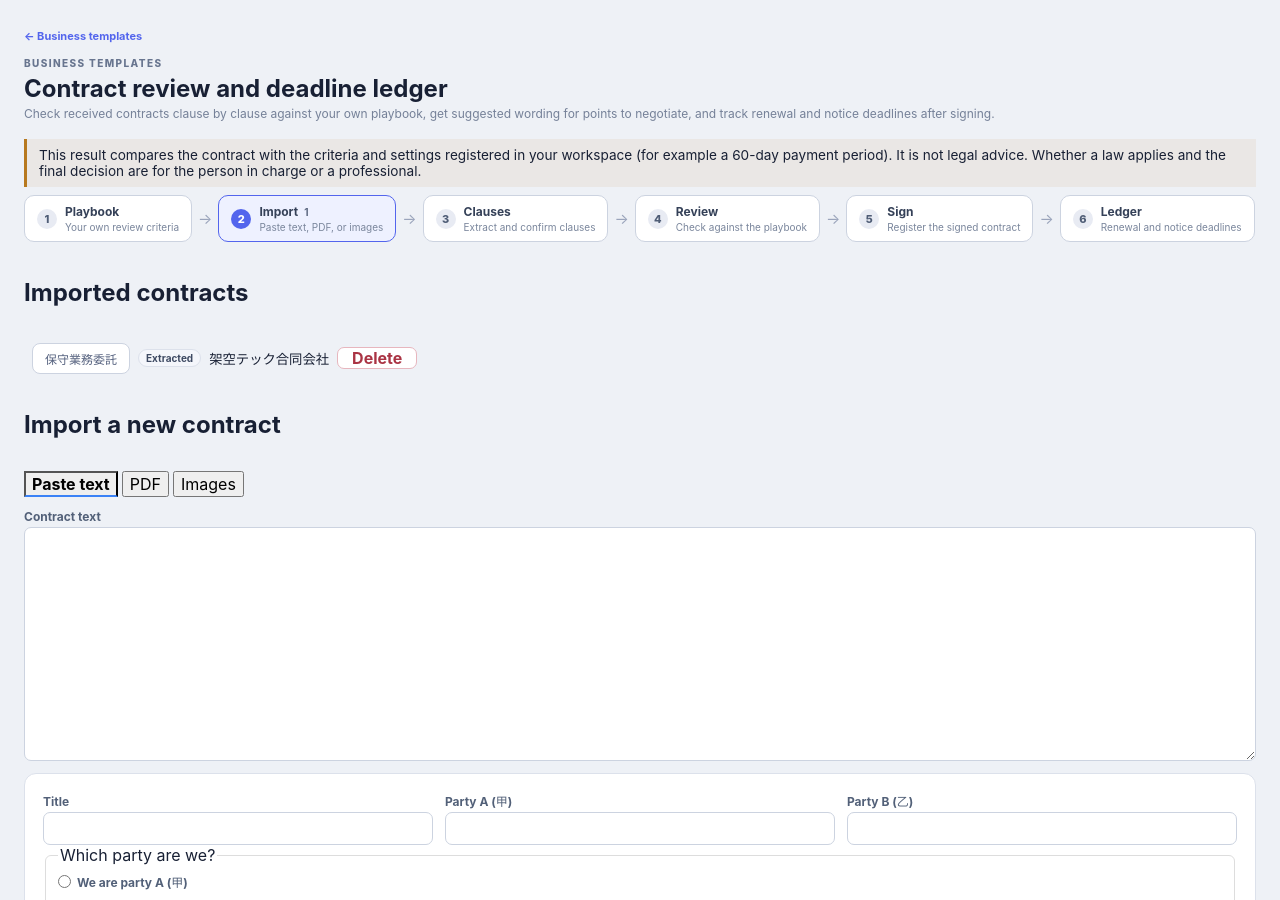
Test: ContractPage › 正常: 期限台帳は状態チップを出し、通知済みにする・契約を開くを押せる
Click the tab "6 Ledger Renewal and notice deadlines".
click(1157, 218)  # box [1060,195,1255,242]
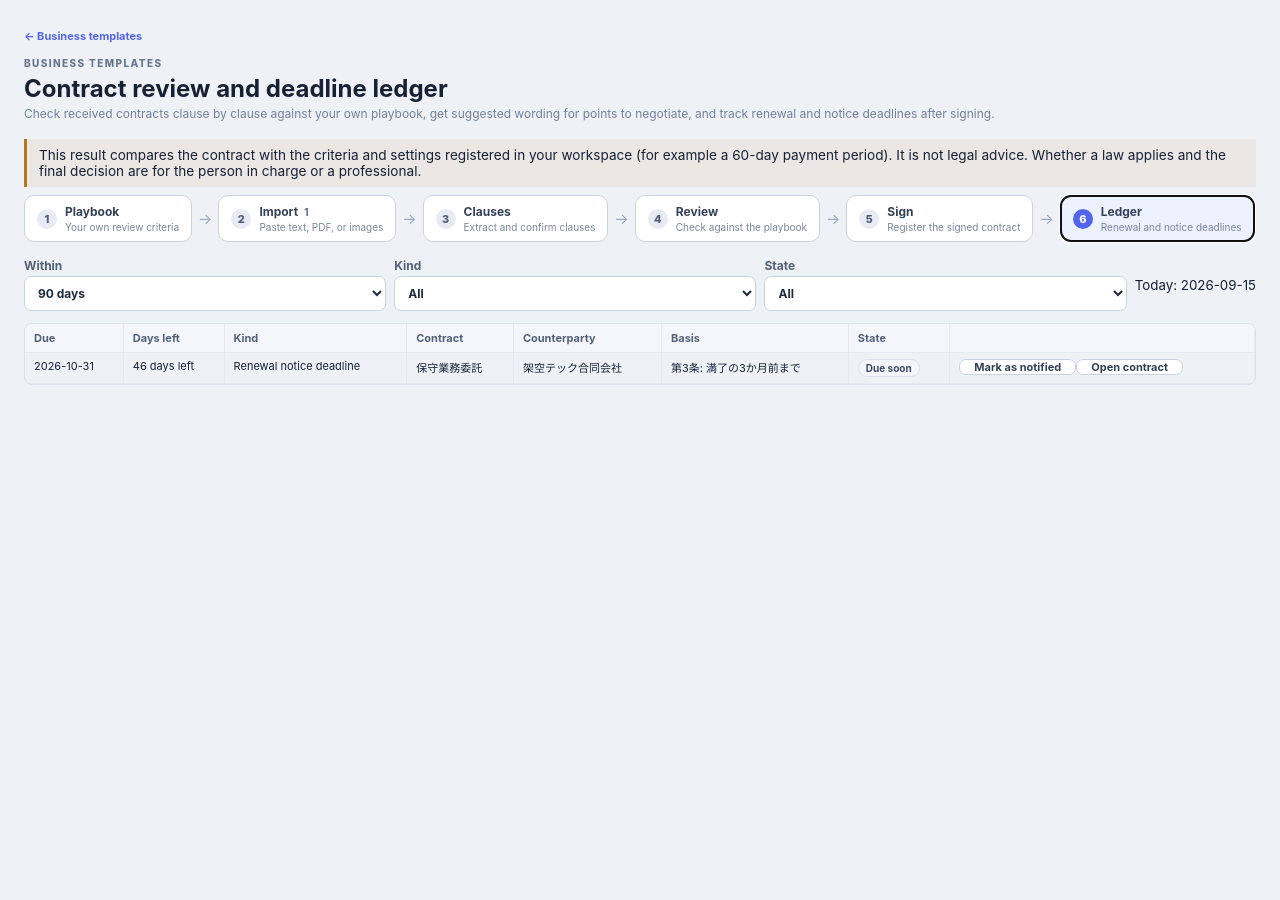
Expected: the text "Due soon" is shown, [858,359,920,377]
Expected: the text "46 days left" is shown, [123,353,224,384]
Click the button "Mark as notified".
click(1018, 367)  # box [959,359,1076,375]
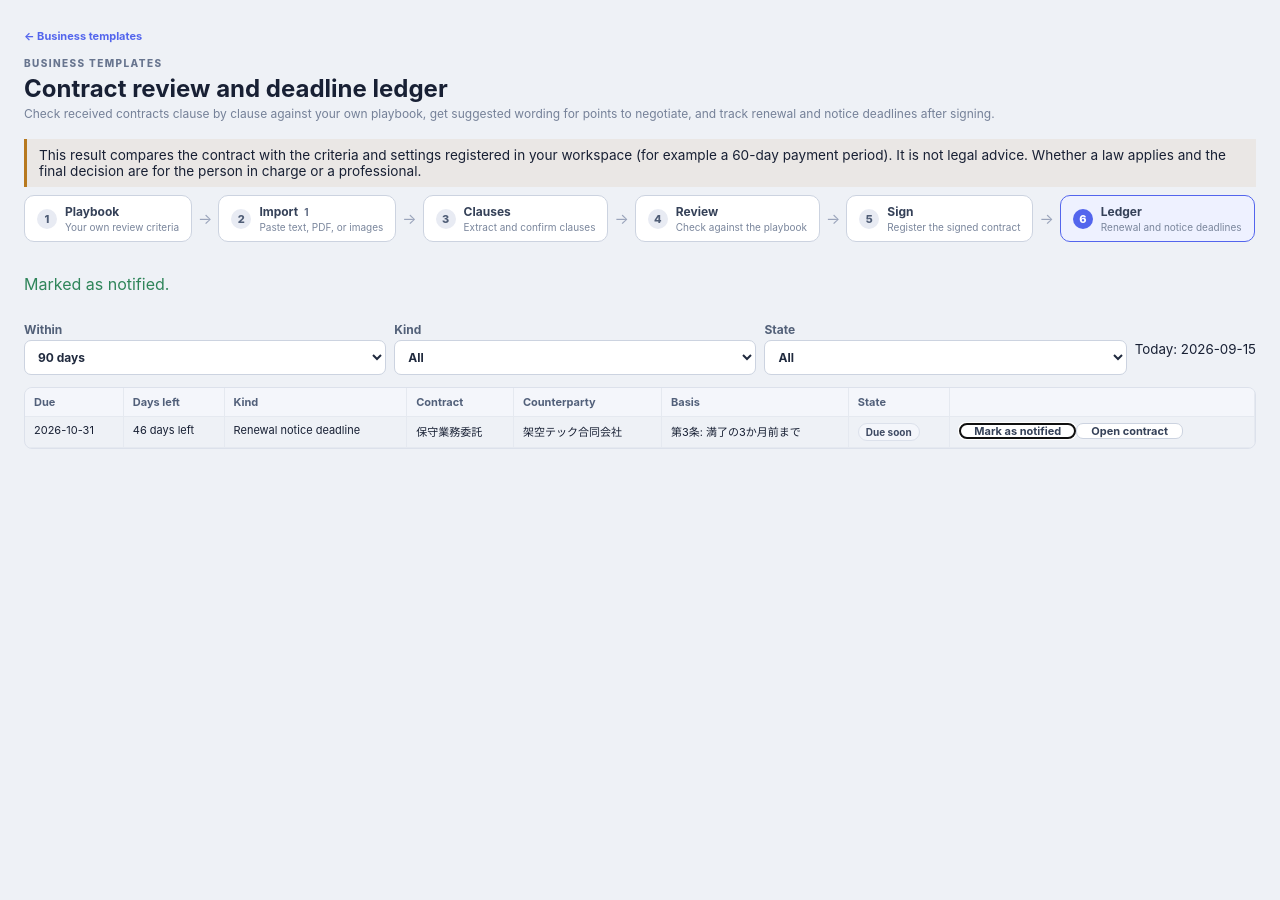
Click the button "Open contract".
click(1130, 431)  # box [1076,423,1183,439]
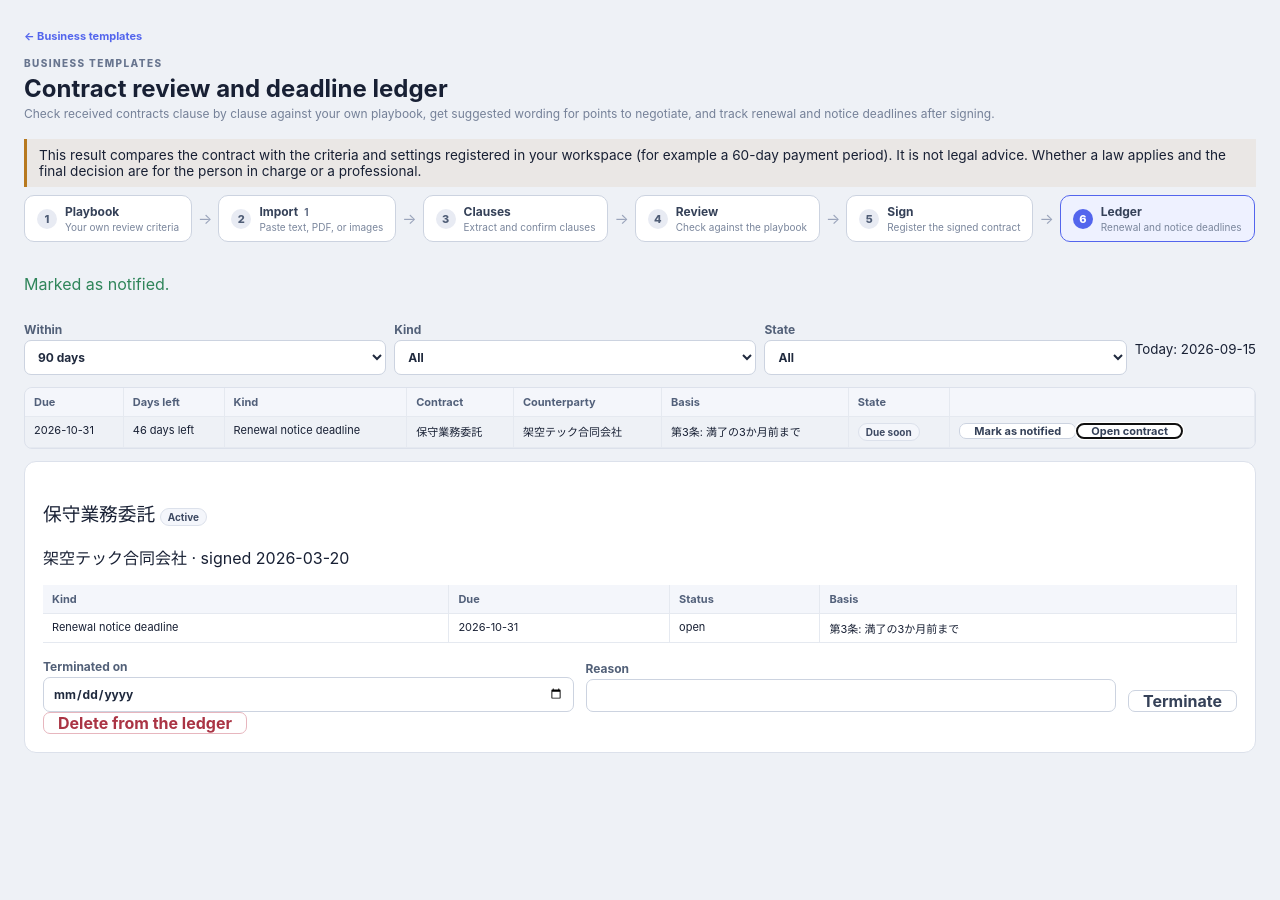
Expected: the button "Terminate" is shown, [1128,690,1237,712]
